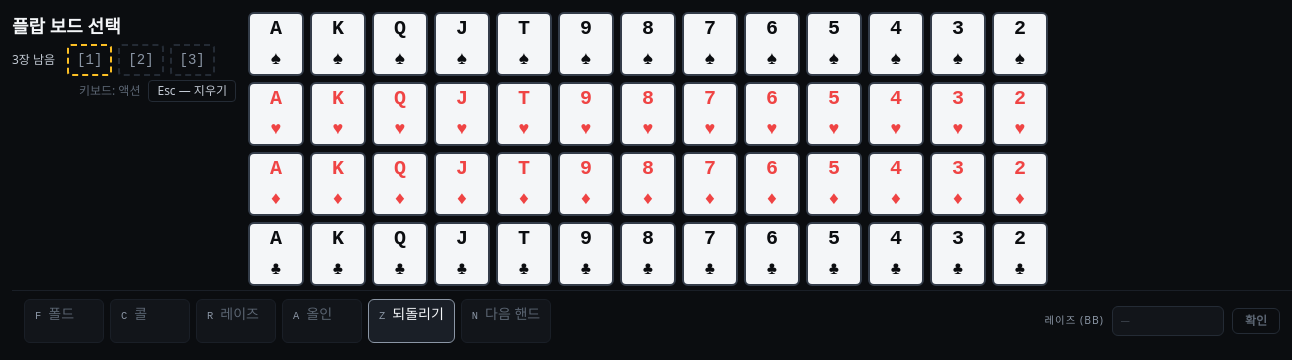
Test case: CardPalette — WP-8 enlarged hit areas and title › shows an unfilled slot per remaining card, with the very next one marked `data-next`
The image size is (1292, 360).
Check: the text with test id "card-palette-slot-0" reads "[1]", box [67,44,112,76]
Check: the text with test id "card-palette-slot-1" reads "[2]", box [118,44,164,76]
Click the button with test id "palette-2c": x=1020, y=254 [992,222,1048,286]
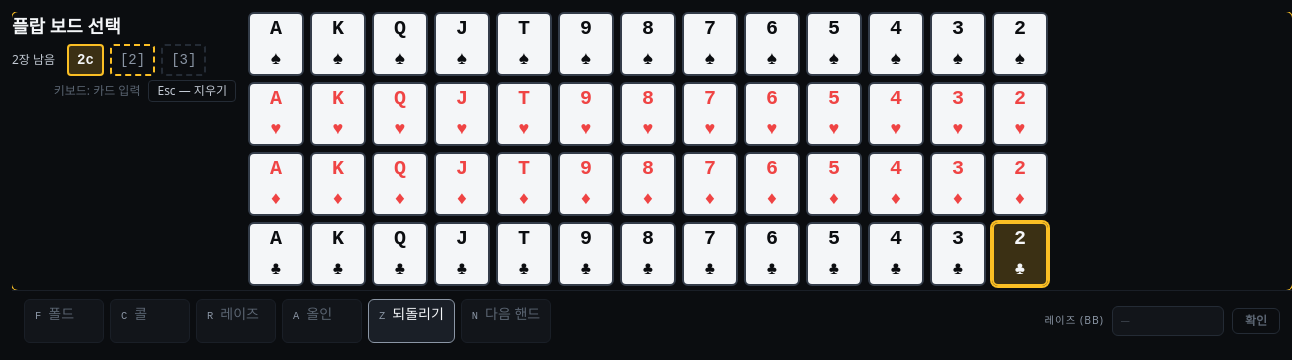
Check: the text with test id "card-palette-slot-1" reads "[2]", box [110,44,155,76]
Check: the button with test id "pick-2c" is shown, box [67,44,104,76]
